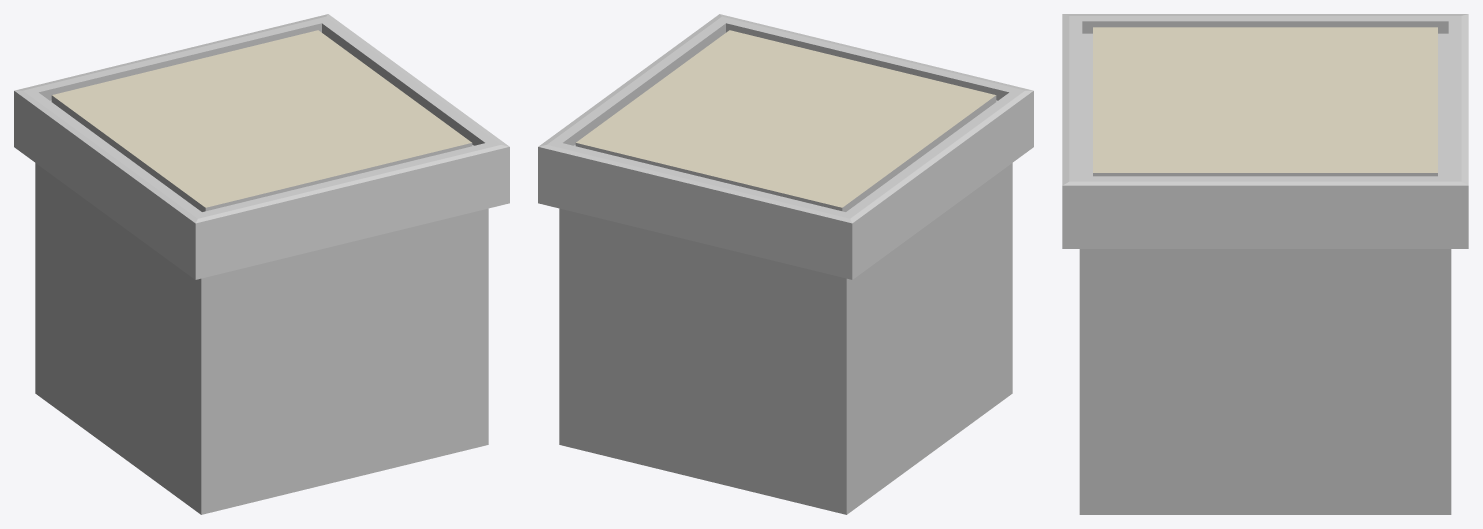
The model's file is crate-spawner.fbx.
3 renders of one model, left to right at view 1: azimuth 30°, elevation 25°; view 2: azimuth 150°, elevation 25°; view 3: azimuth 270°, elevation 25°, orthographic. The views are drawn at different scales.
Parts seen in each view (by area): view 1: crate-spawner; view 2: crate-spawner; view 3: crate-spawner.
Part boxes in pixels (x1=…): crate-spawner: x1=14, y1=14, x2=509, y2=514; crate-spawner: x1=538, y1=14, x2=1033, y2=514; crate-spawner: x1=1062, y1=14, x2=1468, y2=514.
Size of the model in its own units: 200 by 183 by 200.
